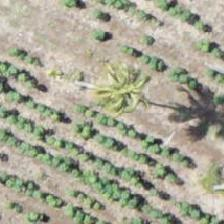coconut_tree: (54, 36, 144, 126)
